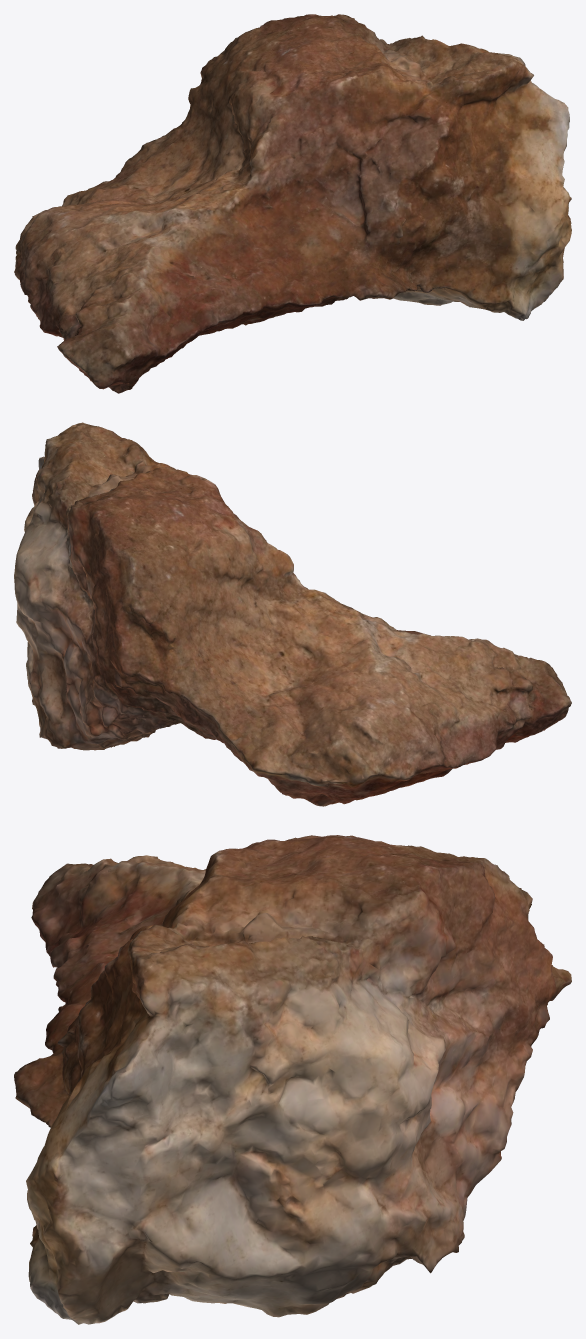
The model's file is stone_01.glb.
3 renders of one model, top to bottom at view 1: azimuth 30°, elevation 25°; view 2: azimuth 150°, elevation 25°; view 3: azimuth 270°, elevation 25°, orthographic. The views are drawn at different scales.
Parts seen in each view (by area): view 1: stone_01; view 2: stone_01; view 3: stone_01.
Boxes of the visible parts, bbox=[...] form: stone_01: bbox=[14, 14, 571, 393]; stone_01: bbox=[14, 422, 571, 806]; stone_01: bbox=[14, 835, 571, 1324].
Size of the model in its own units: 0.1469 by 0.0718 by 0.0891.
Materials: 1 (1 with a texture image).
